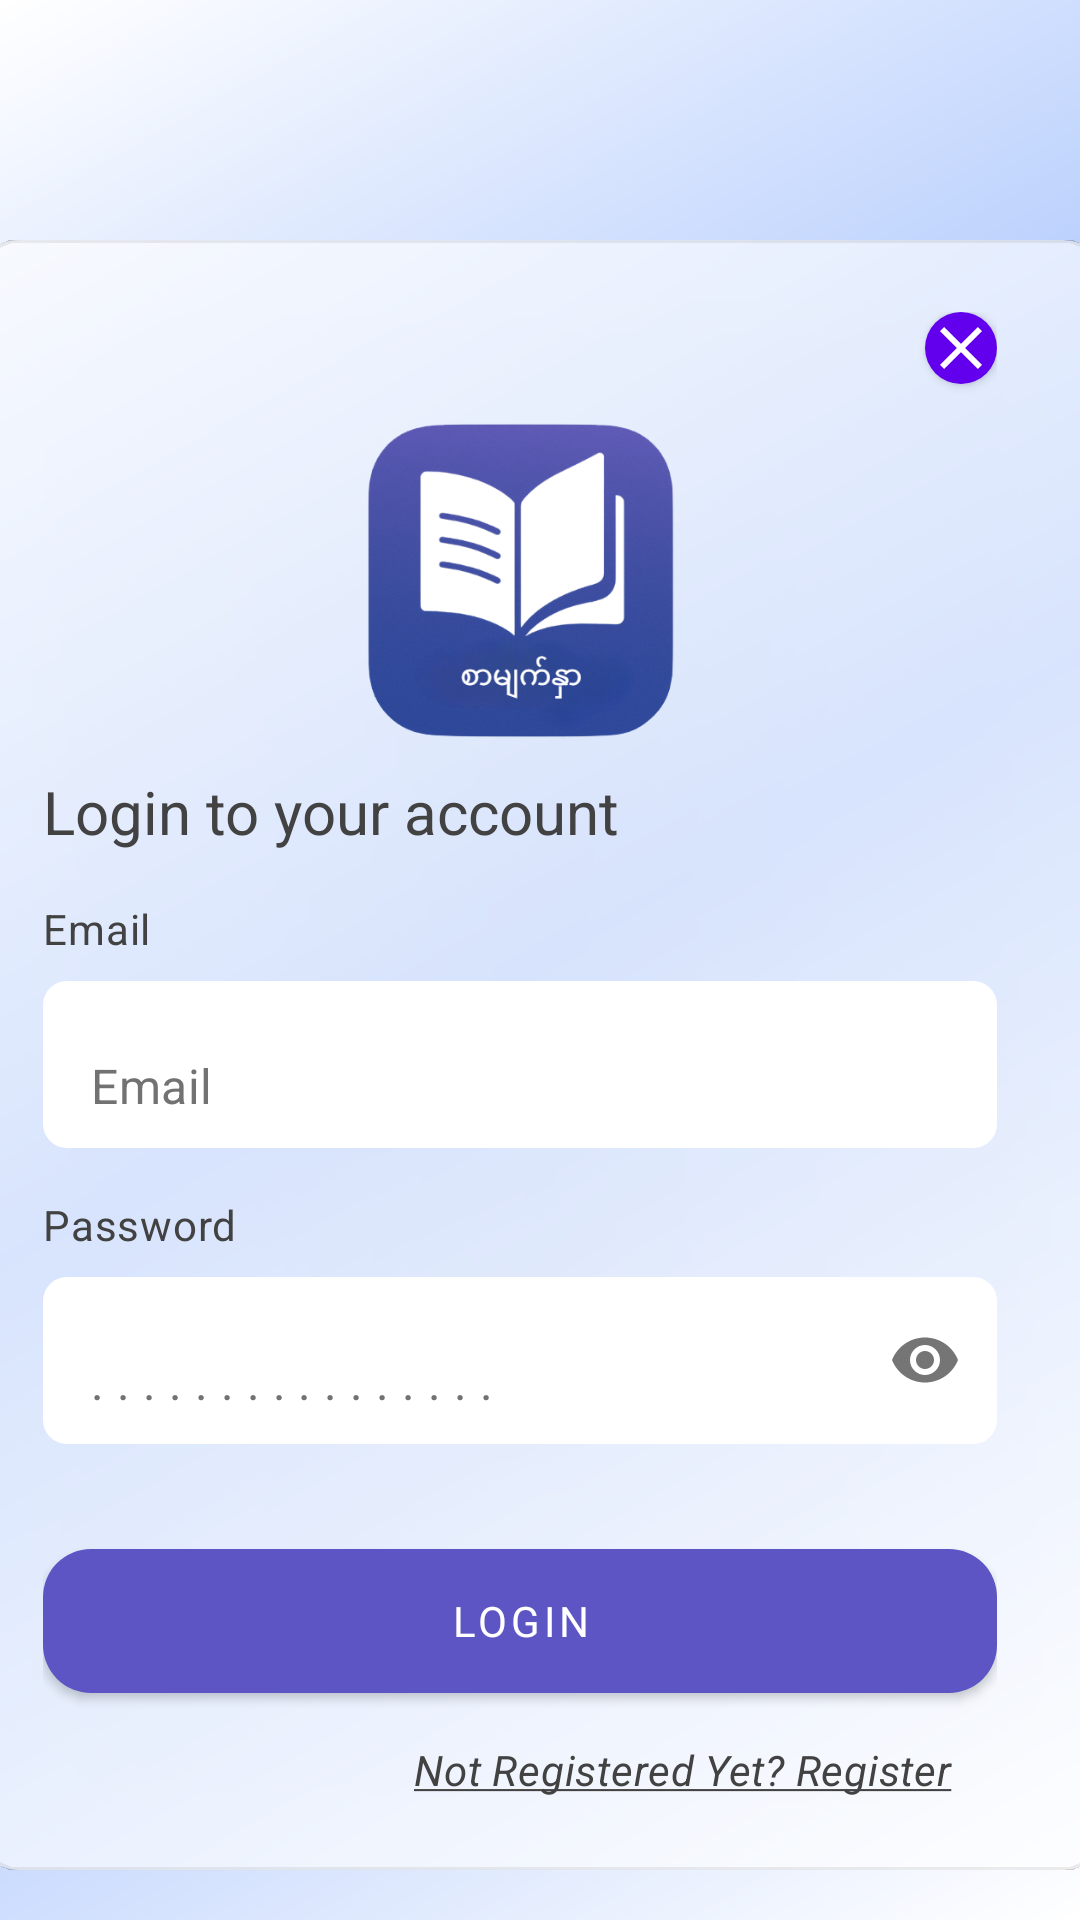

Where to tap for icons on this 1080 x 1920 app screen, as (x,y):
close: (961,348)
